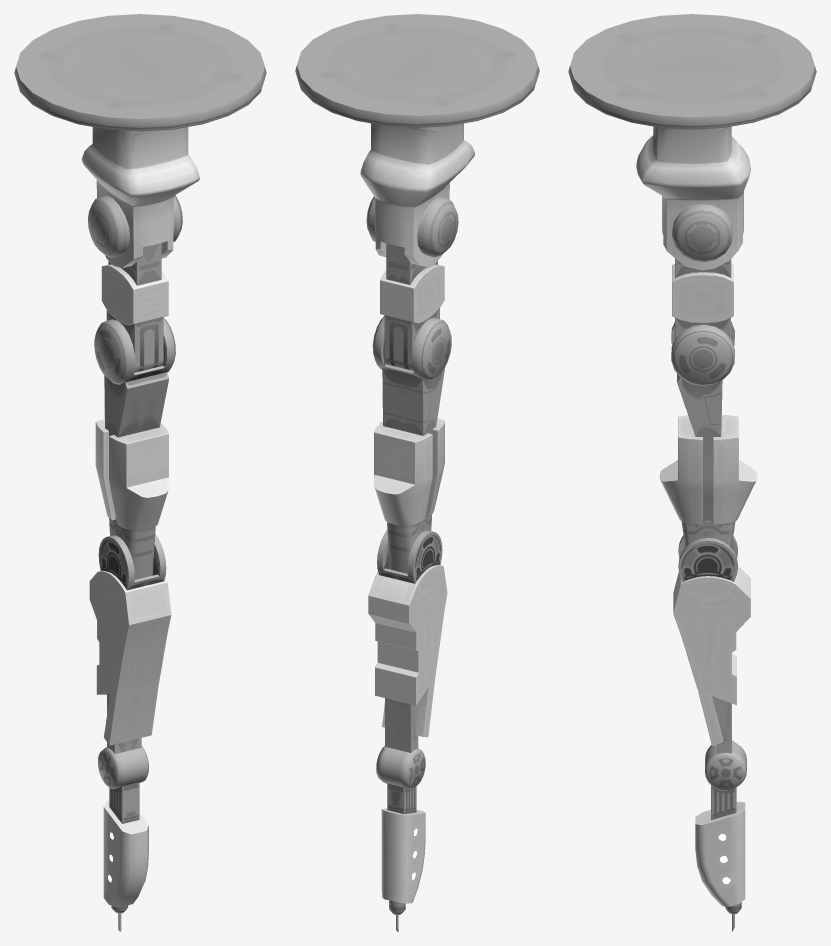
Rendered from MedRoboticArm02.FBX.
The picture shows the model from 3 angles, left to right: view 1: azimuth 30°, elevation 25°; view 2: azimuth 150°, elevation 25°; view 3: azimuth 270°, elevation 25°; orthographic projection. The views are drawn at different scales.
Parts seen in each view (by area): view 1: Base, Joint2, Joint3, Joint0, Joint1, Joint4; view 2: Base, Joint2, Joint3, Joint0, Joint1, Joint4; view 3: Base, Joint2, Joint3, Joint0, Joint1, Joint4.
Part boxes in pixels (bbox=[...]): Base: bbox=[14, 14, 266, 131]; Joint2: bbox=[94, 318, 175, 579]; Joint3: bbox=[89, 534, 171, 753]; Joint0: bbox=[81, 127, 199, 267]; Joint1: bbox=[88, 195, 182, 372]; Joint4: bbox=[98, 746, 148, 913]; Base: bbox=[295, 14, 539, 127]; Joint2: bbox=[372, 316, 451, 573]; Joint3: bbox=[368, 530, 447, 752]; Joint0: bbox=[360, 123, 474, 267]; Joint1: bbox=[366, 196, 458, 370]; Joint4: bbox=[376, 746, 425, 915]; Base: bbox=[568, 14, 816, 129]; Joint2: bbox=[659, 321, 757, 547]; Joint3: bbox=[673, 535, 750, 754]; Joint0: bbox=[636, 126, 750, 270]; Joint1: bbox=[672, 204, 733, 339]; Joint4: bbox=[695, 740, 746, 914].
Size of what is drawn, in the model's own units: 0.8702 by 3.35 by 0.8702.
